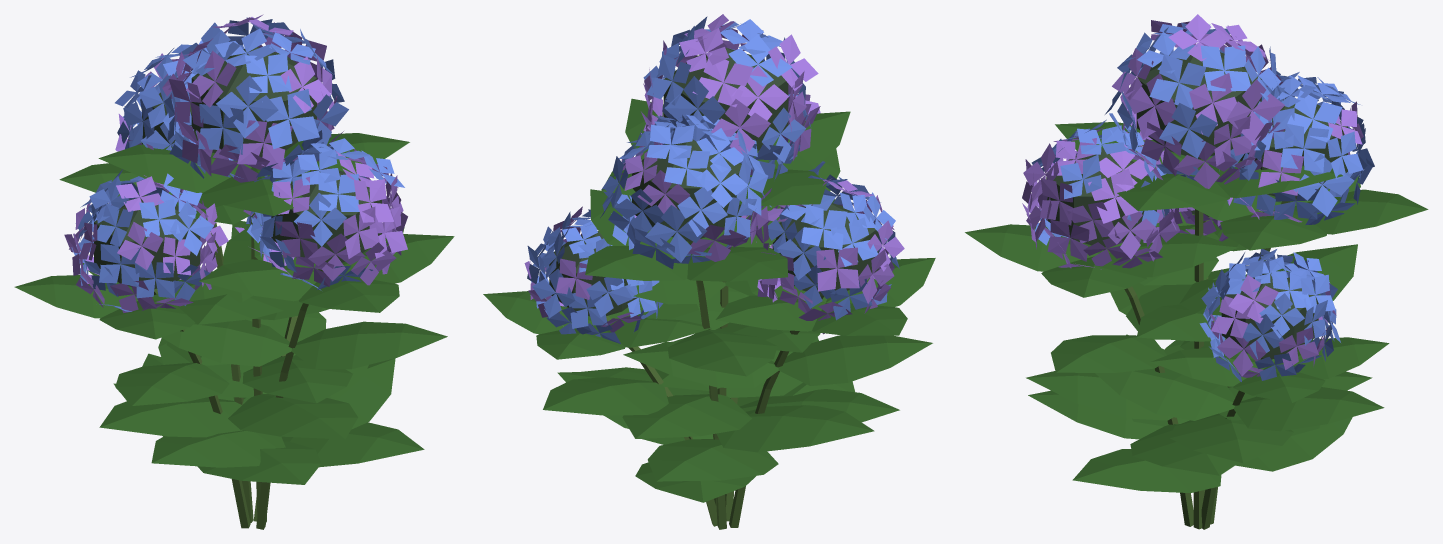
The model's file is hydrangea.glb.
3 renders of one model, left to right at view 1: azimuth 30°, elevation 25°; view 2: azimuth 150°, elevation 25°; view 3: azimuth 270°, elevation 25°, orthographic.
Visible parts, largest first — view 1: Hydrangea; view 2: Hydrangea; view 3: Hydrangea.
Boxes of the visible parts, box(x1,y1,x2,y2) form: Hydrangea: box(14, 14, 454, 529); Hydrangea: box(483, 14, 935, 529); Hydrangea: box(965, 14, 1428, 529).
Bounding box in the file's own units: 0.5063 × 0.607 × 0.5046.
